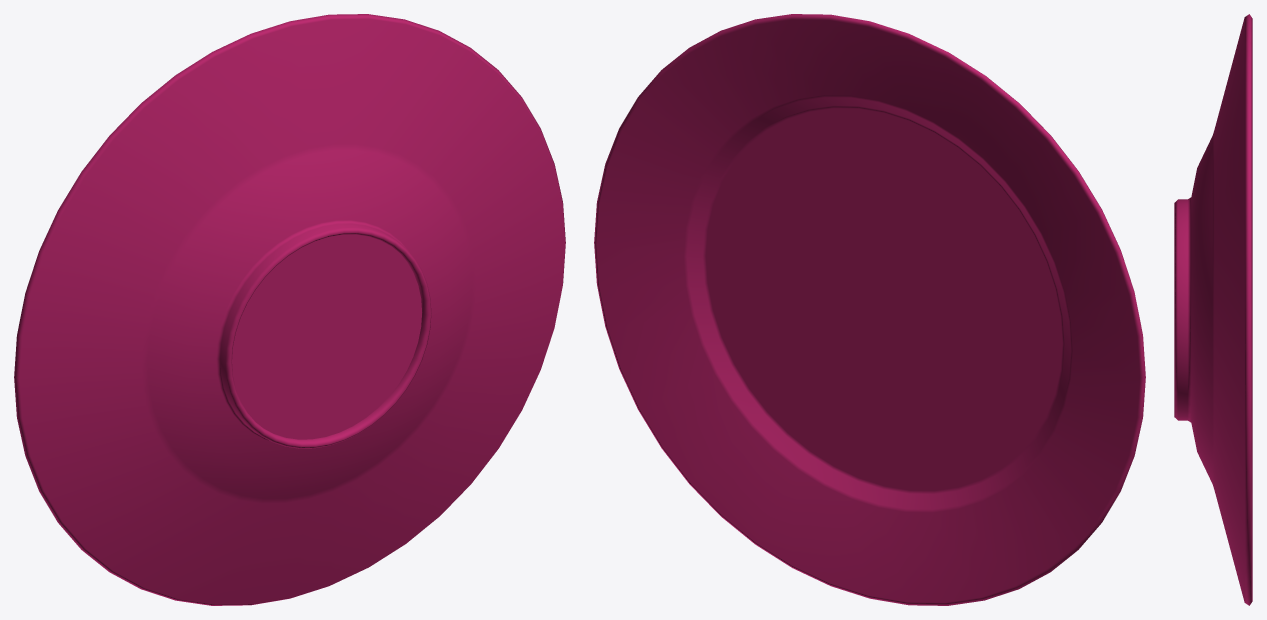
File: SM_Dishes_10.fbx
3 renders of one model, left to right at view 1: azimuth 30°, elevation 25°; view 2: azimuth 150°, elevation 25°; view 3: azimuth 270°, elevation 25°, orthographic. The views are drawn at different scales.
Visible parts, largest first — view 1: SM_Dishes_10; view 2: SM_Dishes_10; view 3: SM_Dishes_10.
Part boxes in pixels (x1,y1,x2,y2): SM_Dishes_10: (14,14,565,605); SM_Dishes_10: (594,14,1145,605); SM_Dishes_10: (1174,14,1252,605).
Size of the model in its own units: 27.87 by 27.87 by 3.69.
